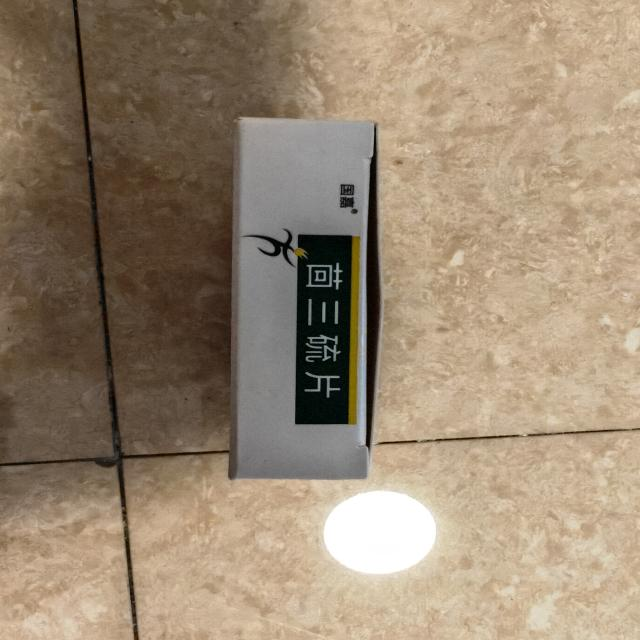box: (222, 107, 385, 502)
